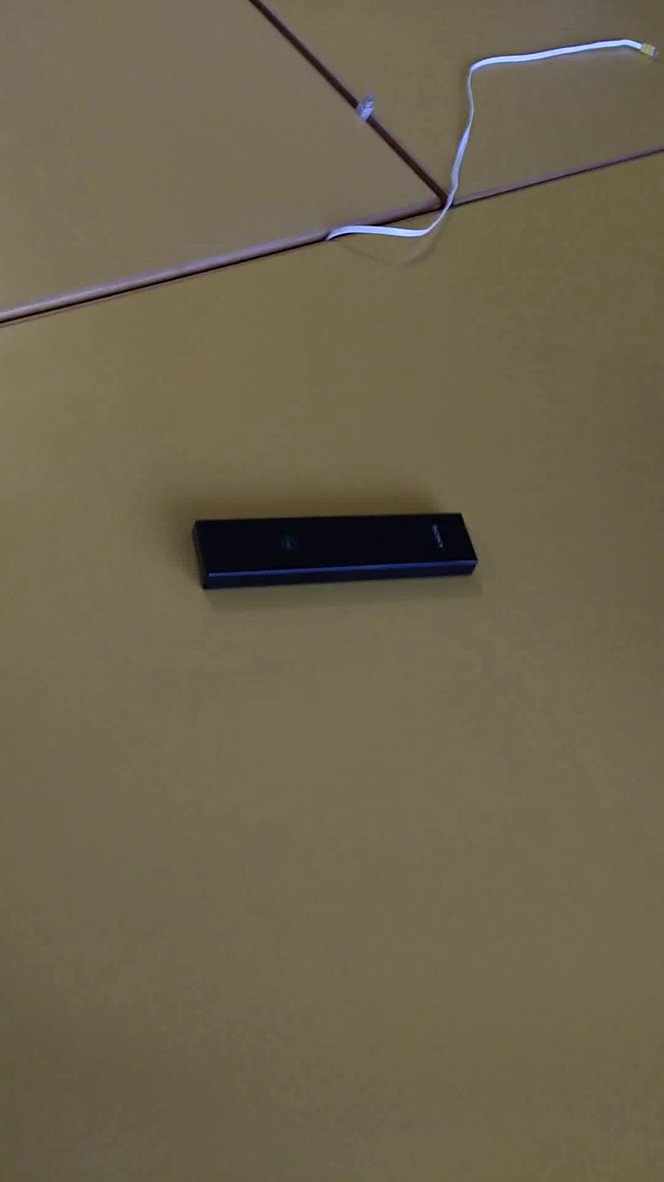remote: (170, 495, 484, 607)
